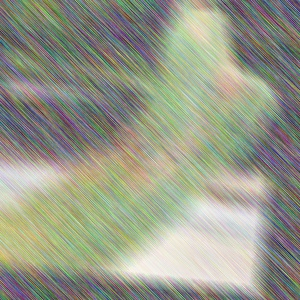Brown_Spot: (122, 111, 214, 188), (51, 109, 153, 178), (216, 32, 262, 108), (185, 0, 221, 39)
